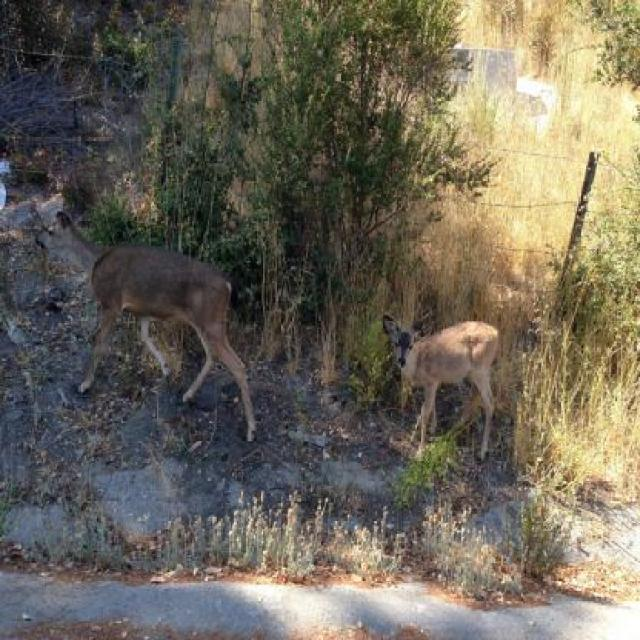Deer: (37, 190, 257, 442), (381, 318, 497, 459)
